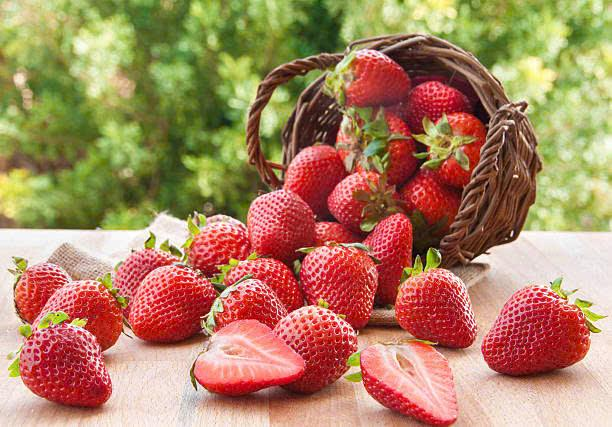strawberry: (0, 300, 136, 416), (481, 279, 598, 377), (356, 336, 472, 423), (263, 148, 398, 214), (203, 322, 295, 412), (32, 254, 130, 338), (381, 190, 458, 284), (386, 265, 477, 344), (332, 113, 429, 180), (115, 257, 202, 330), (419, 88, 481, 189), (287, 245, 391, 304), (212, 256, 295, 325), (333, 49, 411, 110), (295, 304, 350, 390), (192, 209, 254, 267), (264, 178, 310, 256)
